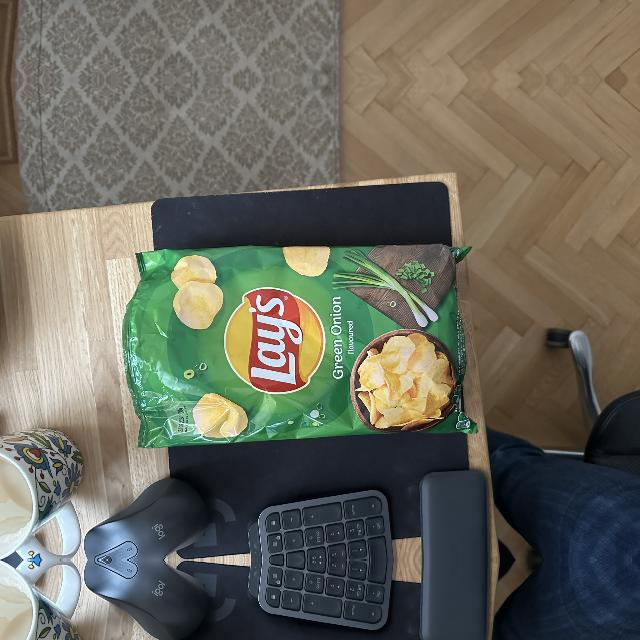lays: (224, 288, 327, 396)
